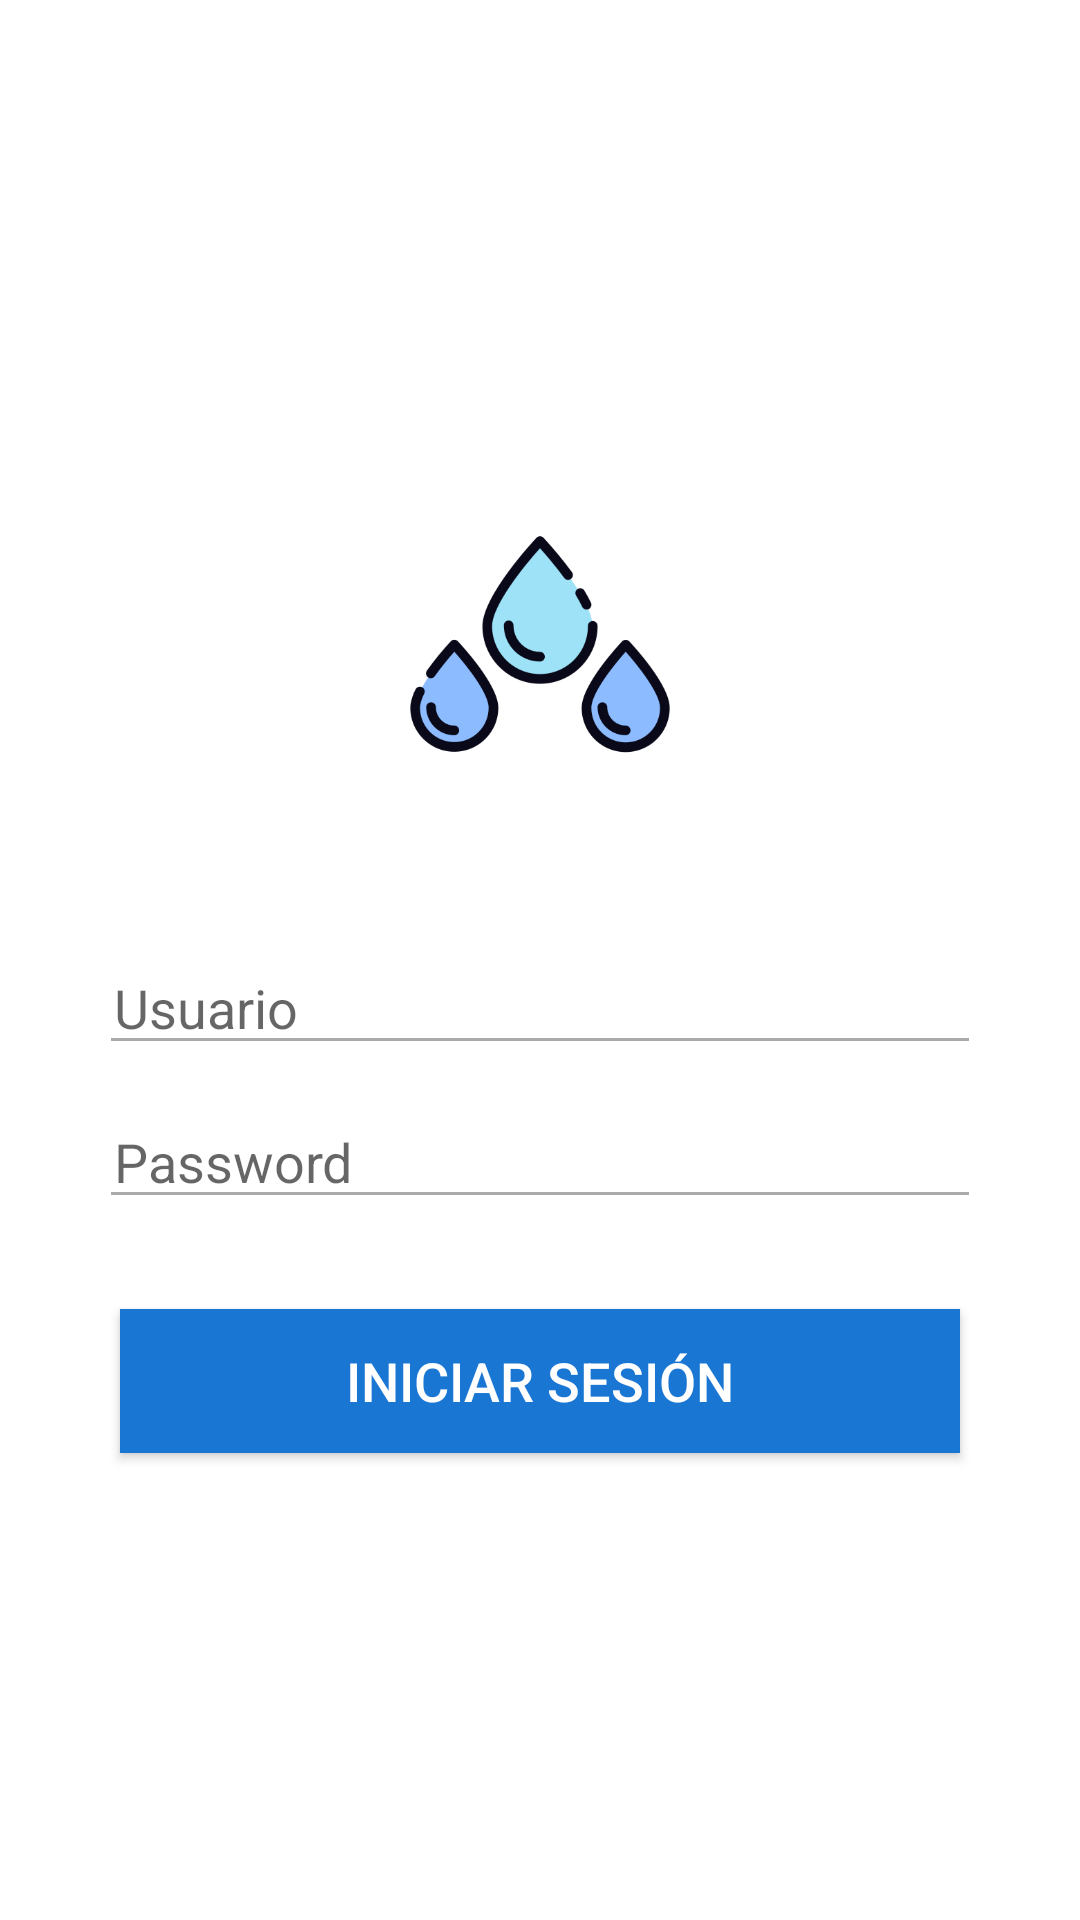

Named icons in this screenshot (1080w x 1920h) and their centers, (x=x, y=y):
gotas: (x=540, y=644)
